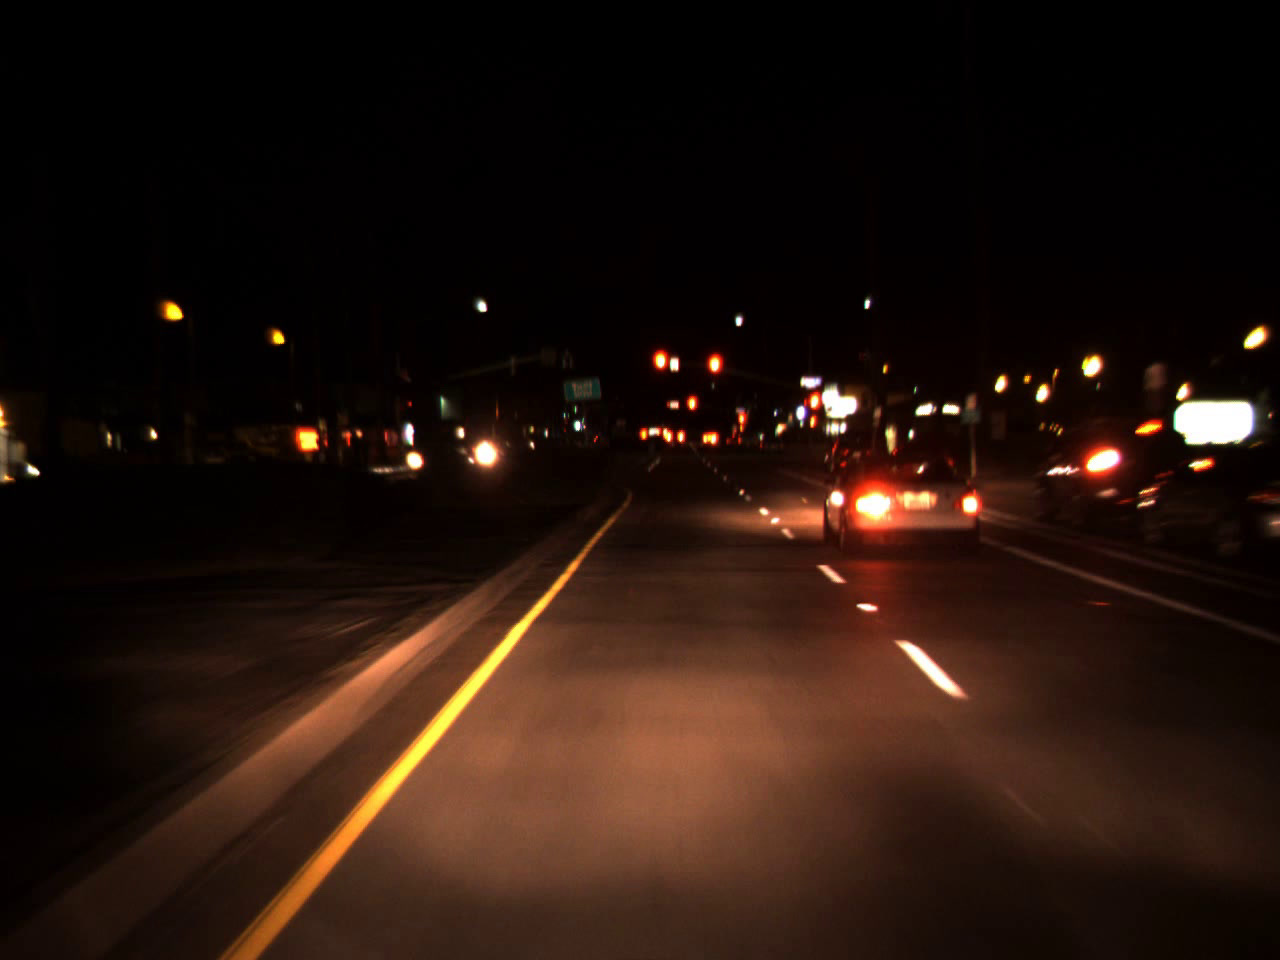stop: (804, 387, 826, 435), (650, 346, 671, 394), (706, 350, 724, 395), (684, 392, 699, 429), (737, 409, 747, 441), (407, 401, 413, 411)
